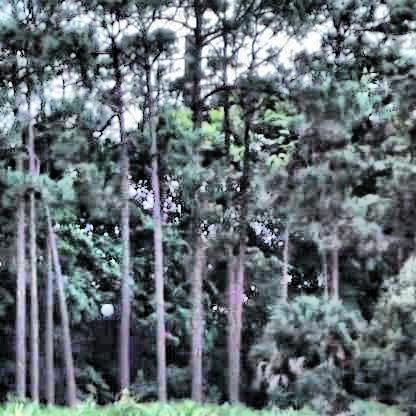golfball: (99, 300, 111, 313)
